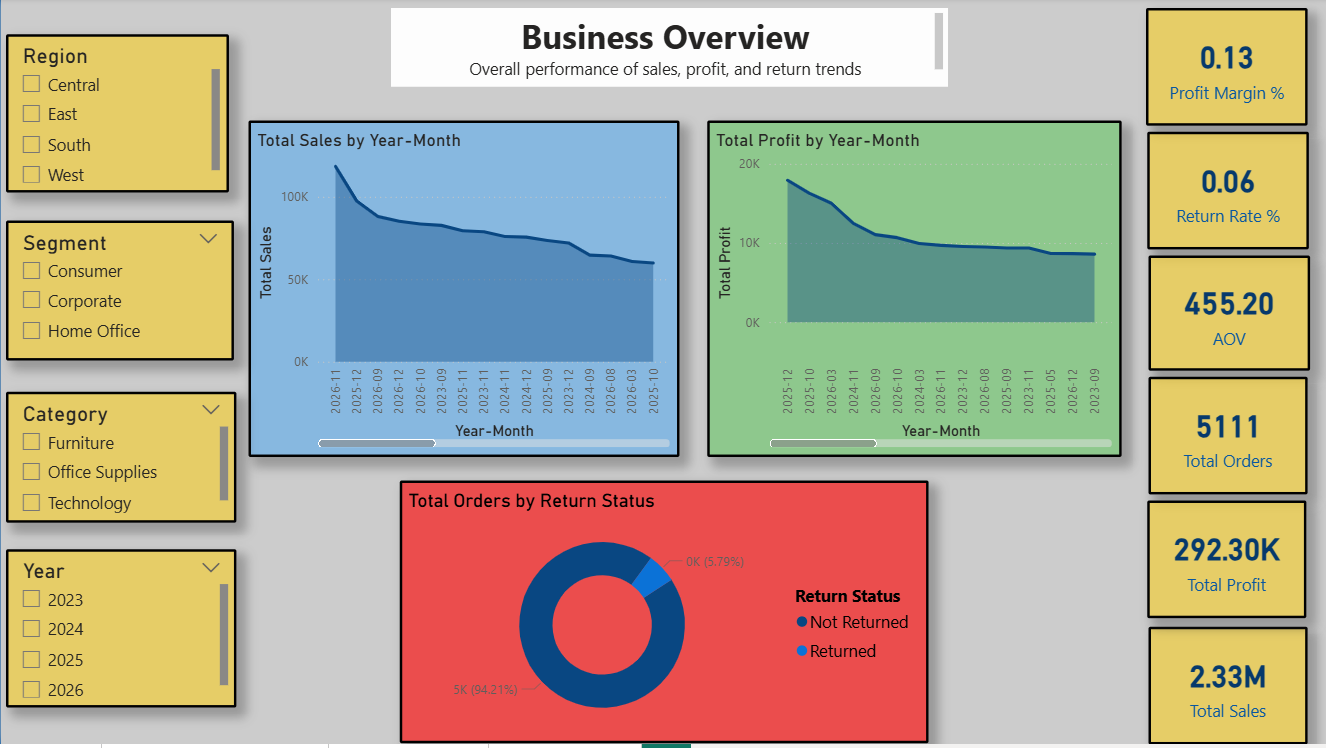

The dashboard page shown, as its layout file describes it:
{"tool":"powerbi","page":{"name":"Business Baseline","canvas":[1280,720],"ordinal":0},"visuals":[{"type":"card","fields":{"Values":["Orders.Total Sales"]},"box":[1107.5,606.2,153.8,113.8],"z":0},{"type":"card","fields":{"Values":["Orders.Profit Margin %"]},"box":[1105,10,156.2,113.8],"z":1000},{"type":"card","fields":{"Values":["Returns.Return Rate %"]},"box":[1106.2,128.8,156.2,113.8],"z":2000},{"type":"card","fields":{"Values":["Orders.AOV"]},"box":[1107.5,248.8,156.2,111.2],"z":3000},{"type":"card","fields":{"Values":["Orders.Total Orders"]},"box":[1107.5,365,153.8,113.8],"z":4000},{"type":"card","fields":{"Values":["Orders.Total Profit"]},"box":[1106.2,485,153.8,113.8],"z":5000},{"type":"areaChart","fields":{"Category":["Calendar.Year-Month"],"Y":["Orders.Total Profit"]},"box":[681.2,118.8,400,325],"z":6000},{"type":"areaChart","fields":{"Category":["Calendar.Year-Month"],"Y":["Orders.Total Sales"]},"box":[238.8,118.8,416.2,325],"z":7000},{"type":"donutChart","fields":{"Category":["Orders.Return Status"],"Y":["Orders.Total Orders"]},"box":[385,466.2,510,253.8],"z":8000},{"type":"slicer","fields":{"Values":["People.Region"]},"box":[5,35,215,152.5],"z":9000},{"type":"slicer","fields":{"Values":["Orders.Segment"]},"box":[5,215,220,135],"z":10000},{"type":"slicer","fields":{"Values":["Orders.Category"]},"box":[5,380,222.5,126.2],"z":11000},{"type":"slicer","fields":{"Values":["Calendar.Year"]},"box":[5,532.5,222.5,152.5],"z":12000},{"type":"textbox","box":[376.2,10,537.5,76.2],"z":13000}]}

Visuals, with their boxes in screenshot pixels (x1, y1, x2, y2), scaled from the page's 1280x720 canvas onto the 1326x748 screenshot:
card - Orders.Total Sales: {"left": 1147, "top": 630, "right": 1307, "bottom": 747}
card - Orders.Profit Margin %: {"left": 1145, "top": 10, "right": 1307, "bottom": 129}
card - Returns.Return Rate %: {"left": 1146, "top": 134, "right": 1308, "bottom": 252}
card - Orders.AOV: {"left": 1147, "top": 258, "right": 1309, "bottom": 374}
card - Orders.Total Orders: {"left": 1147, "top": 379, "right": 1307, "bottom": 497}
card - Orders.Total Profit: {"left": 1146, "top": 504, "right": 1305, "bottom": 622}
areaChart - Calendar.Year-Month x Orders.Total Profit: {"left": 706, "top": 123, "right": 1120, "bottom": 461}
areaChart - Calendar.Year-Month x Orders.Total Sales: {"left": 247, "top": 123, "right": 679, "bottom": 461}
donutChart - Orders.Return Status x Orders.Total Orders: {"left": 399, "top": 484, "right": 927, "bottom": 747}
slicer - People.Region: {"left": 5, "top": 36, "right": 228, "bottom": 195}
slicer - Orders.Segment: {"left": 5, "top": 223, "right": 233, "bottom": 364}
slicer - Orders.Category: {"left": 5, "top": 395, "right": 236, "bottom": 526}
slicer - Calendar.Year: {"left": 5, "top": 553, "right": 236, "bottom": 712}
textbox: {"left": 390, "top": 10, "right": 947, "bottom": 90}
